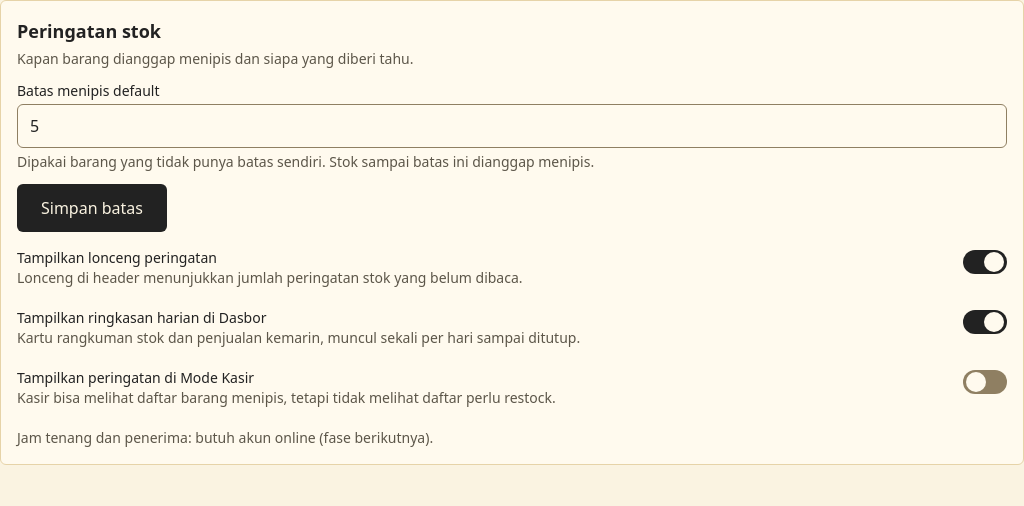
Scenario: pengaturan peringatan stok › nilai "0" ditolak dengan pesan di bawah field dan tidak tersimpan
Replace the text in the field labelled "Batas menipis default" with "0": (512, 126) [17,104,1007,148]
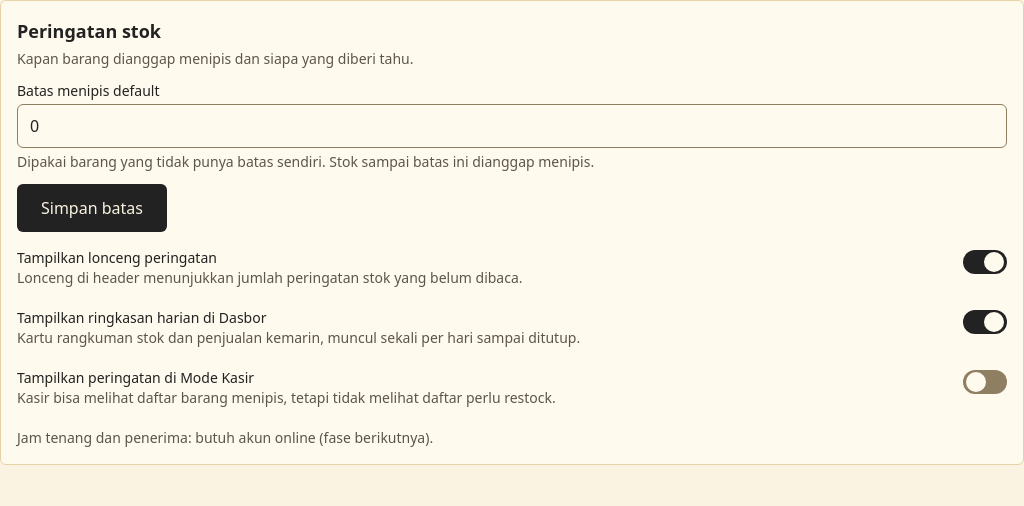
Click the button "Simpan batas": (92, 208) [17,184,167,232]
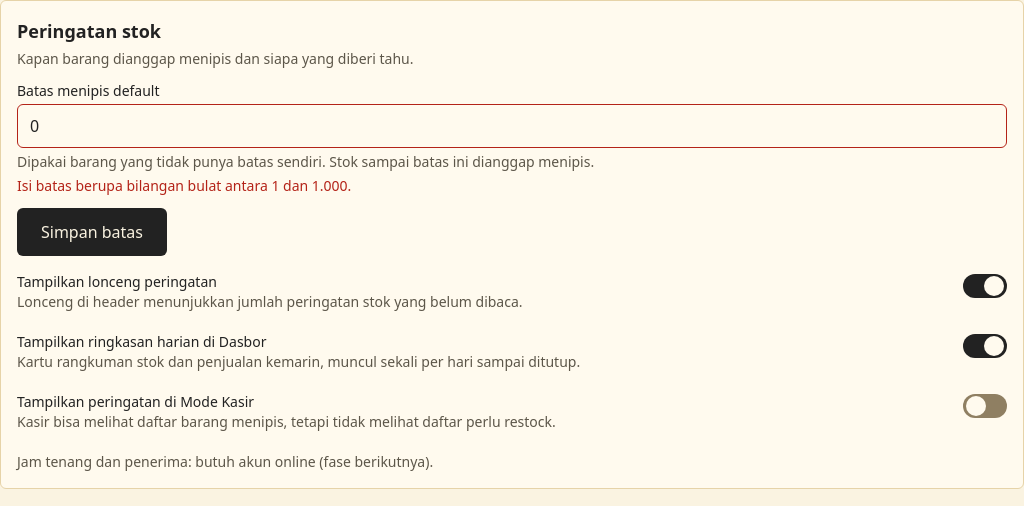
Check: the text "Isi batas berupa bilangan bulat antara 1 dan 1.000." is shown, box [17,176,351,195]
